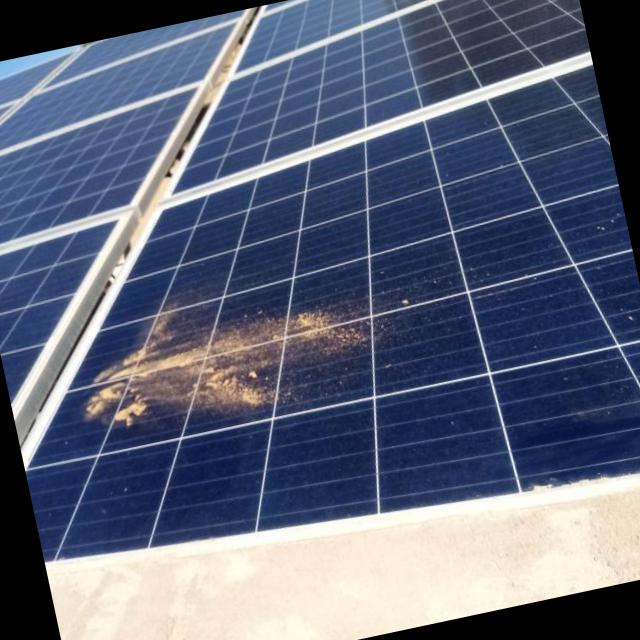faulty: (26, 71, 640, 556)
no faulty: (175, 0, 588, 191)
